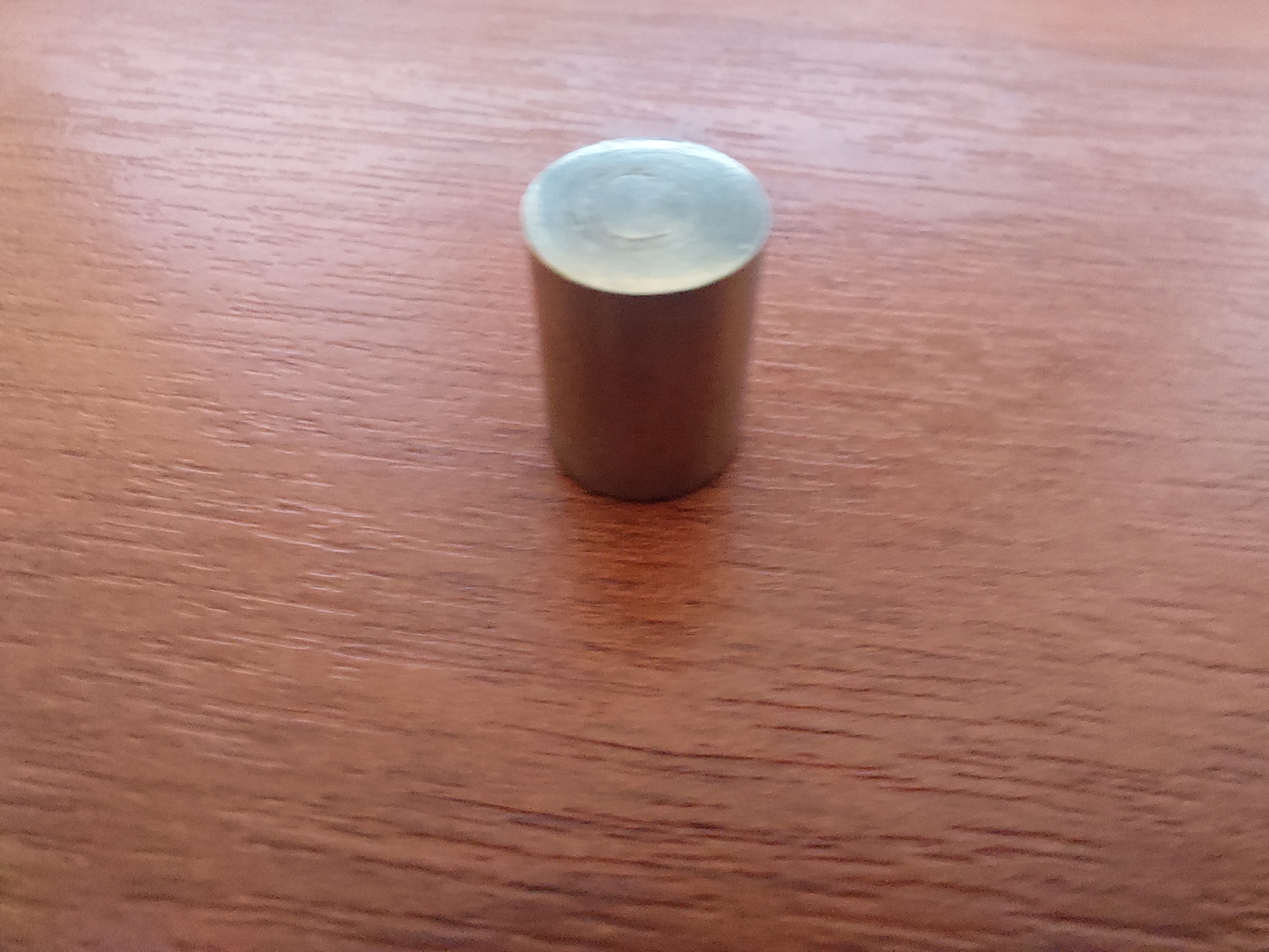tablet: (503, 116, 786, 520)
